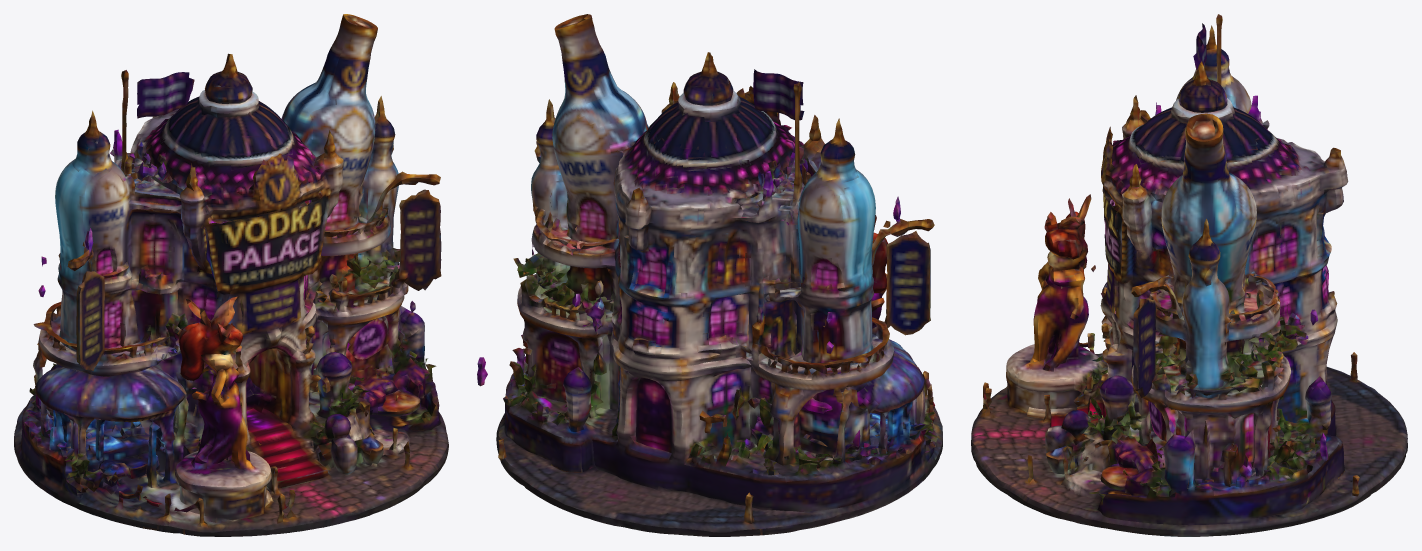
The model's file is vodka_palace.glb.
3 renders of one model, left to right at view 1: azimuth 30°, elevation 25°; view 2: azimuth 150°, elevation 25°; view 3: azimuth 270°, elevation 25°, orthographic. The views are drawn at different scales.
Parts seen in each view (by area): view 1: output; view 2: output; view 3: output.
Boxes of the visible parts, left/top/right/bottom form: output: left=14, top=14, right=448, bottom=536; output: left=477, top=14, right=942, bottom=536; output: left=971, top=14, right=1407, bottom=536.
Size of the model in its own units: 2 by 1.98 by 2.
1 material, 1 textured.
